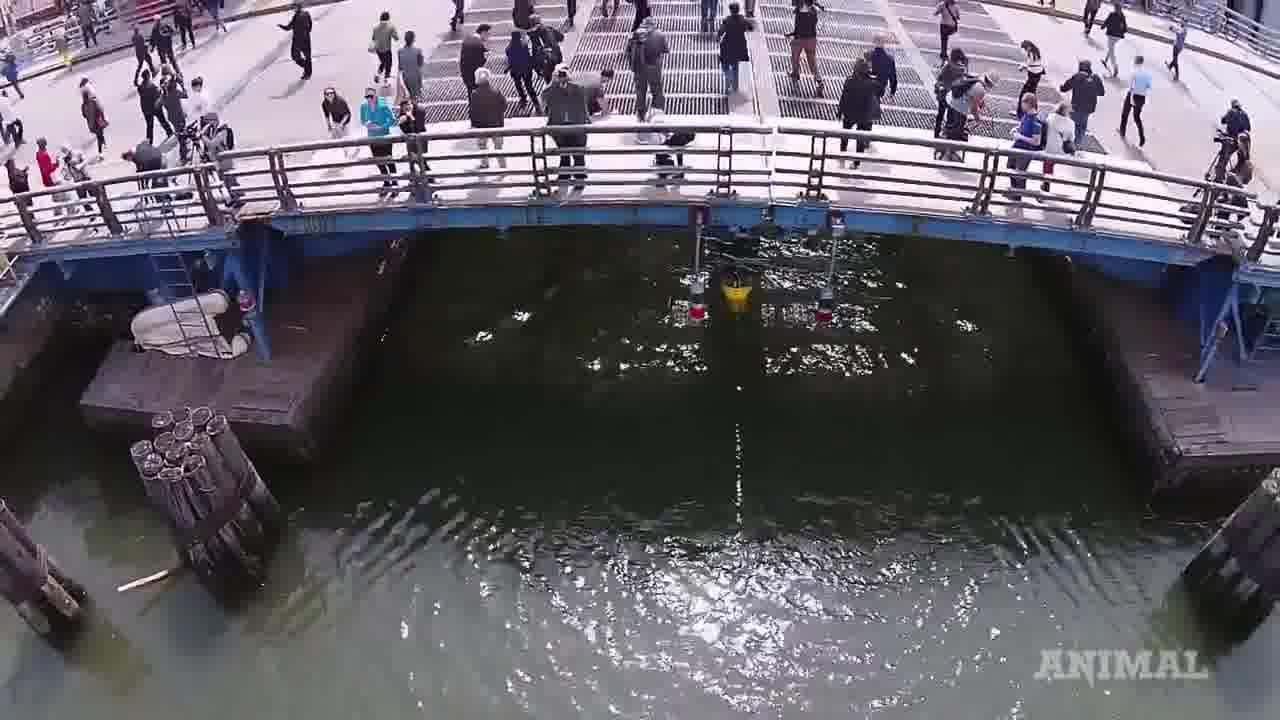swimmer: (719, 262, 763, 306)
